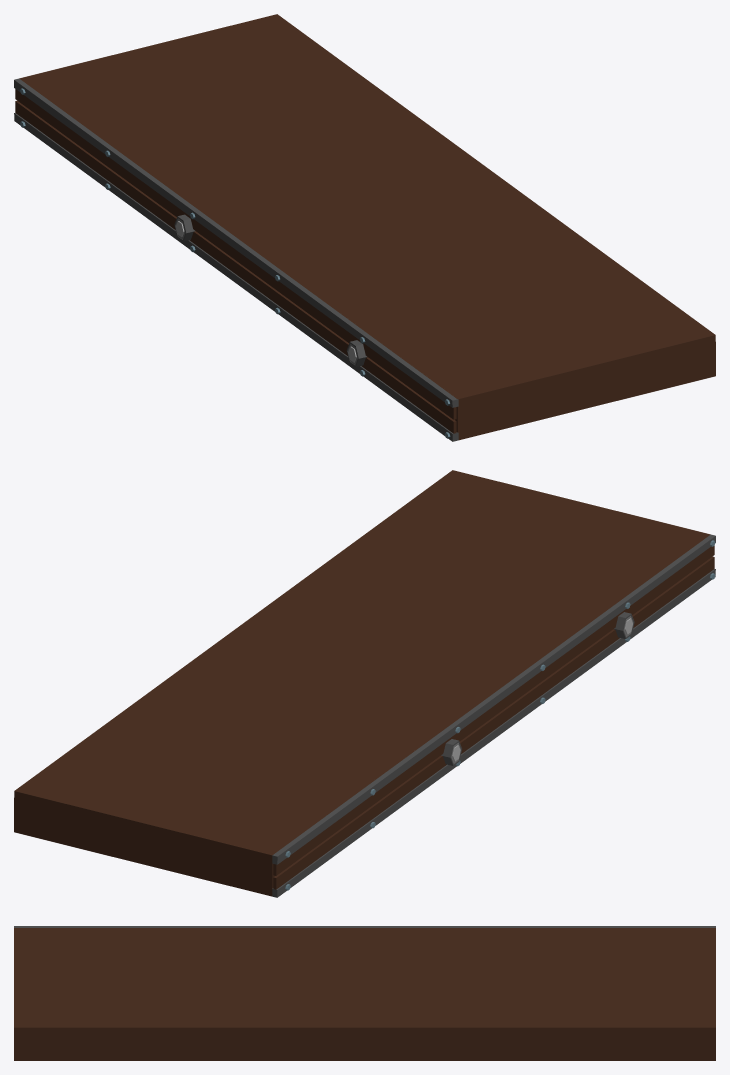
Rendered from UI_Bar.fbx.
The picture shows the model from 3 angles, top to bottom: view 1: azimuth 30°, elevation 25°; view 2: azimuth 150°, elevation 25°; view 3: azimuth 270°, elevation 25°; orthographic projection. The views are drawn at different scales.
Visible parts, largest first — view 1: HUD_Pass_Round.003; view 2: HUD_Pass_Round.003; view 3: HUD_Pass_Round.003.
Boxes of the visible parts, left/top/right/bottom form: HUD_Pass_Round.003: left=14, top=14, right=715, bottom=441; HUD_Pass_Round.003: left=14, top=470, right=715, bottom=897; HUD_Pass_Round.003: left=14, top=926, right=715, bottom=1060.
Bounding box in the file's own units: 542 × 81.69 × 1521.
